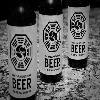beer: (2, 1, 39, 98)
